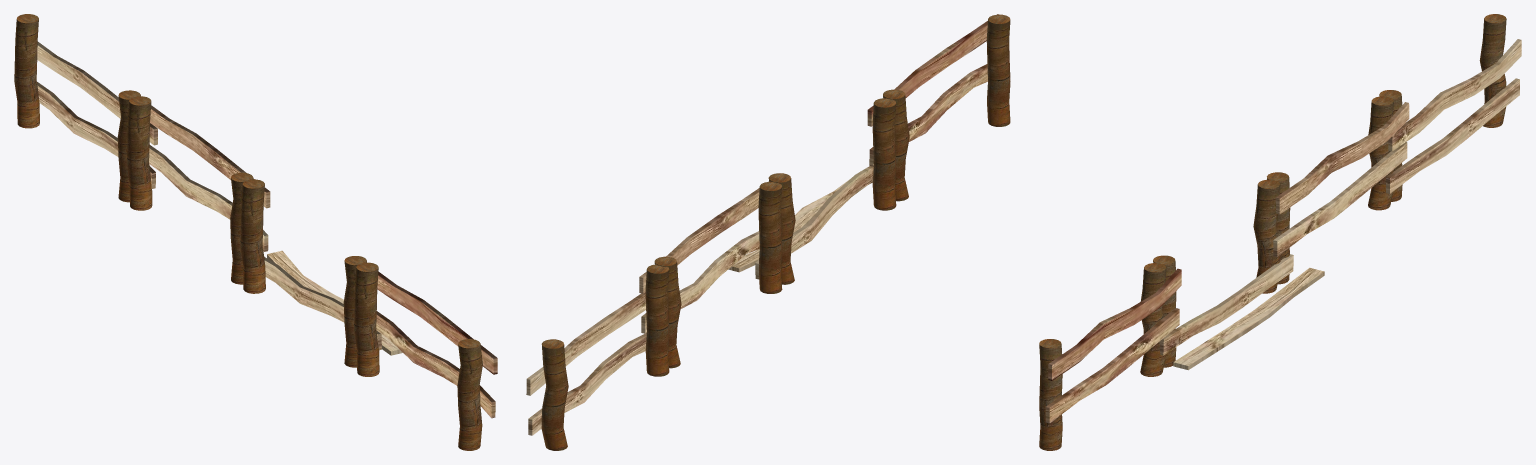
Rendered from Rangé 4 barrières droites endommagées.FBX.
The picture shows the model from 3 angles, left to right: view 1: azimuth 30°, elevation 25°; view 2: azimuth 150°, elevation 25°; view 3: azimuth 330°, elevation 25°; orthographic projection.
Visible parts, largest first — view 1: Barrières droites; view 2: Barrières droites; view 3: Barrières droites.
Boxes of the visible parts, <box> form: Barrières droites: <box>14,14,497,450</box>; Barrières droites: <box>526,14,1010,450</box>; Barrières droites: <box>1039,14,1521,450</box>.
Size of the model in its own units: 33.43 by 59.94 by 495.
